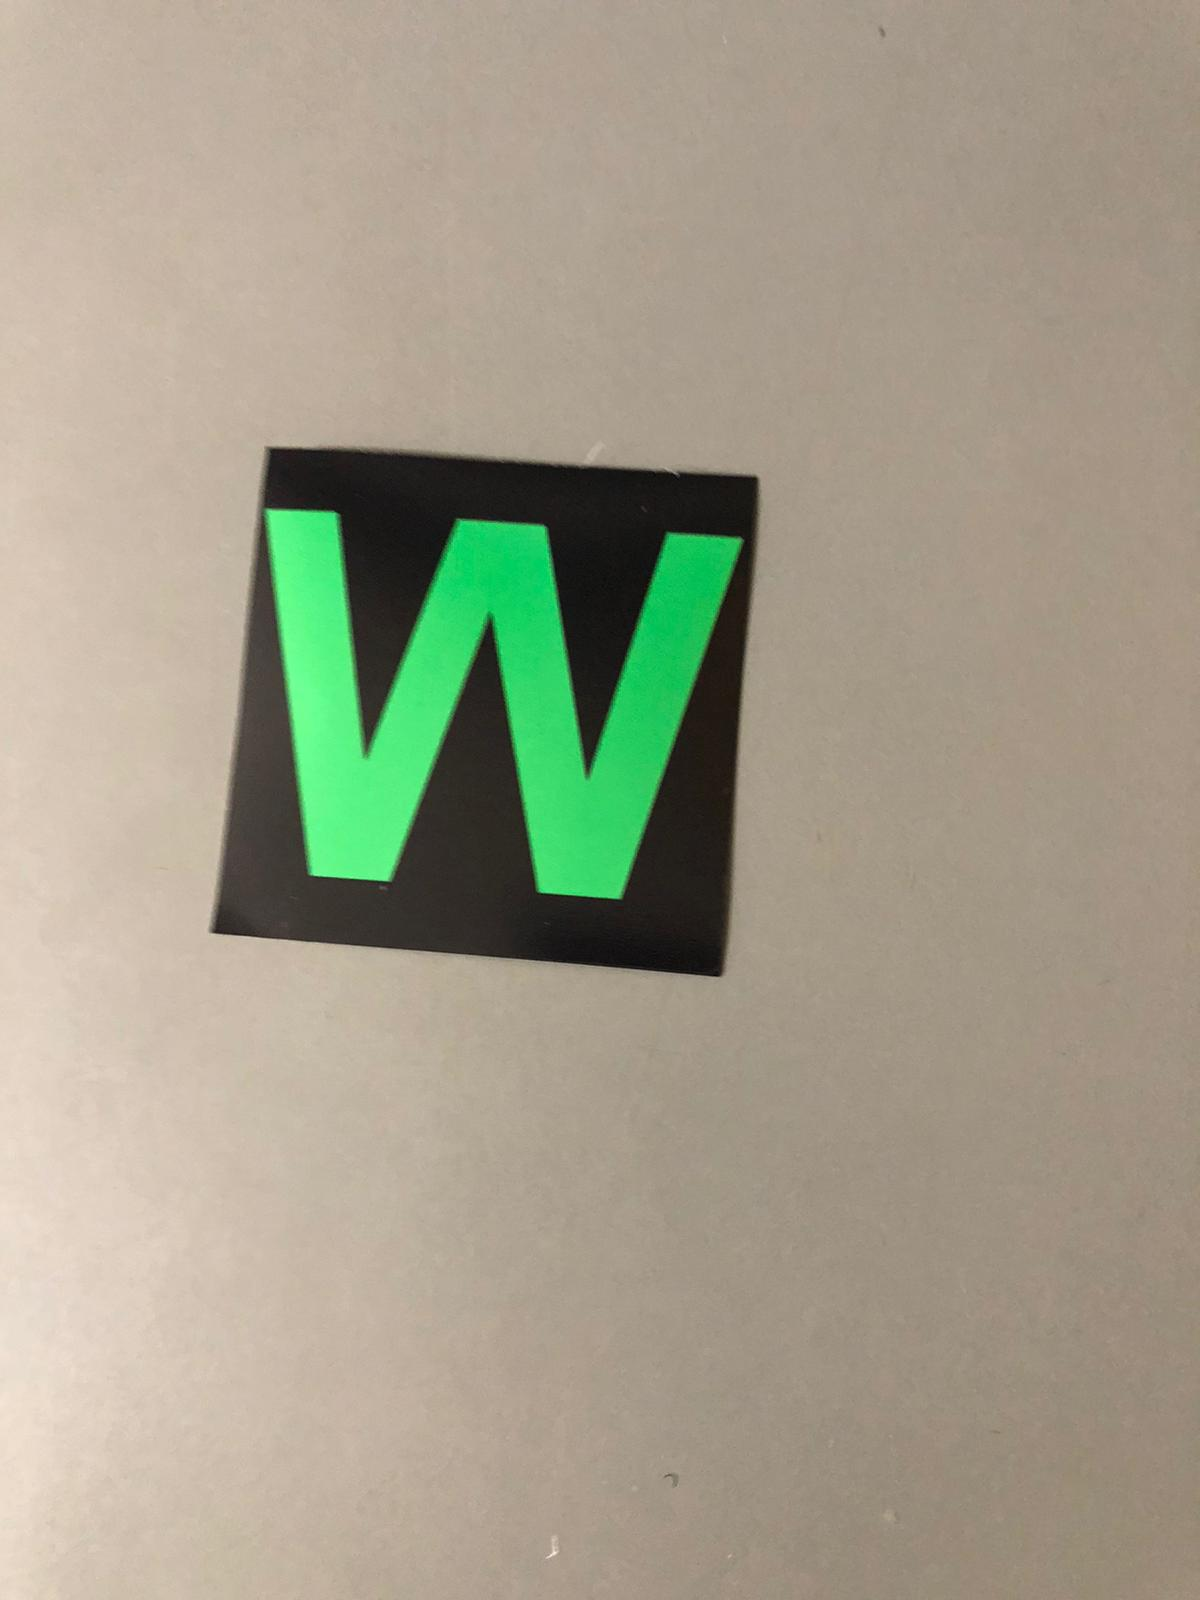W: (262, 454, 747, 970)
